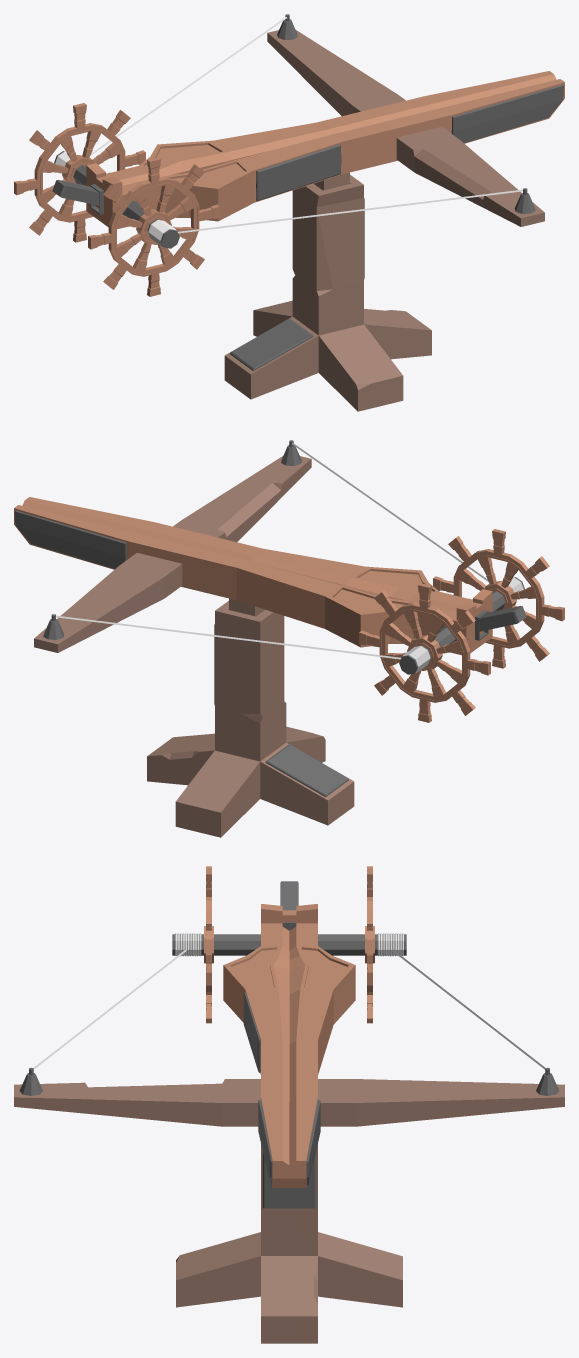
The model's file is Cross_Bow.fbx.
3 views of the same model, one above another, from view 1: azimuth 30°, elevation 25°; view 2: azimuth 150°, elevation 25°; view 3: azimuth 270°, elevation 25° (orthographic). The views are drawn at different scales.
Parts seen in each view (by area): view 1: Crossbow; view 2: Crossbow; view 3: Crossbow.
Part boxes in pixels (box(x1,y1,x2,y2)): Crossbow: box(14, 14, 564, 411); Crossbow: box(14, 440, 564, 837); Crossbow: box(14, 866, 564, 1343).
Bounding box in the file's own units: 2227 × 1210 × 1937.
